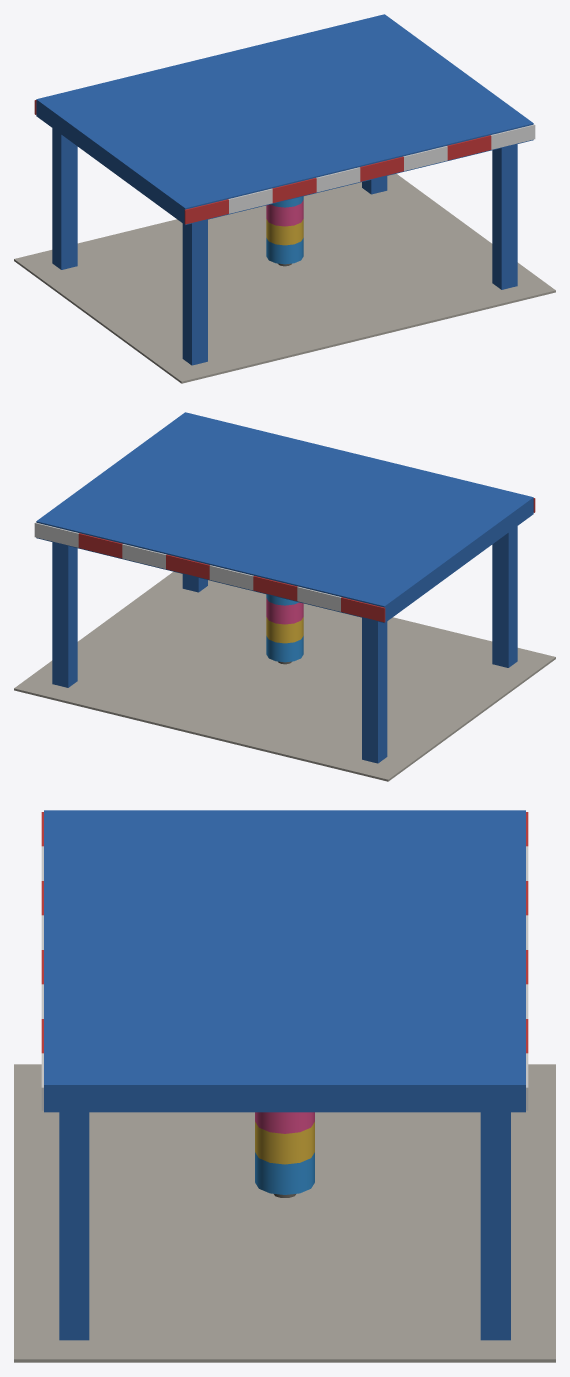
Rendered from wash.glb.
3 views of the same model, one above another, from view 1: azimuth 30°, elevation 25°; view 2: azimuth 150°, elevation 25°; view 3: azimuth 270°, elevation 25° (orthographic). The views are drawn at different scales.
Visible parts, largest first — view 1: frame, canopy, brush; view 2: frame, canopy, brush; view 3: canopy, frame, brush.
Boxes of the visible parts, left/top/right/bottom form: frame: left=14, top=128, right=555, bottom=383; canopy: left=34, top=14, right=535, bottom=224; brush: left=266, top=196, right=303, bottom=266; frame: left=14, top=526, right=555, bottom=781; canopy: left=34, top=412, right=535, bottom=622; brush: left=266, top=594, right=303, bottom=664; canopy: left=41, top=810, right=528, bottom=1112; frame: left=14, top=1064, right=555, bottom=1362; brush: left=255, top=1112, right=314, bottom=1197.
Bounding box in the file's own units: 11.6 × 4.9 × 9.
